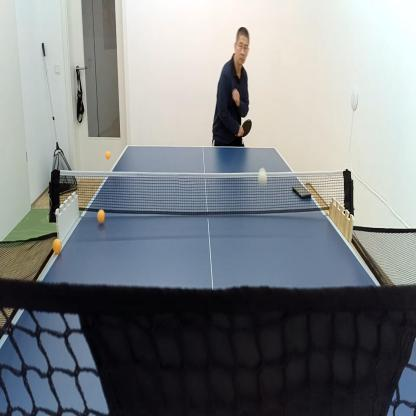Ball: (259, 167, 266, 185), (97, 209, 105, 223), (53, 239, 60, 252), (106, 151, 110, 159)
